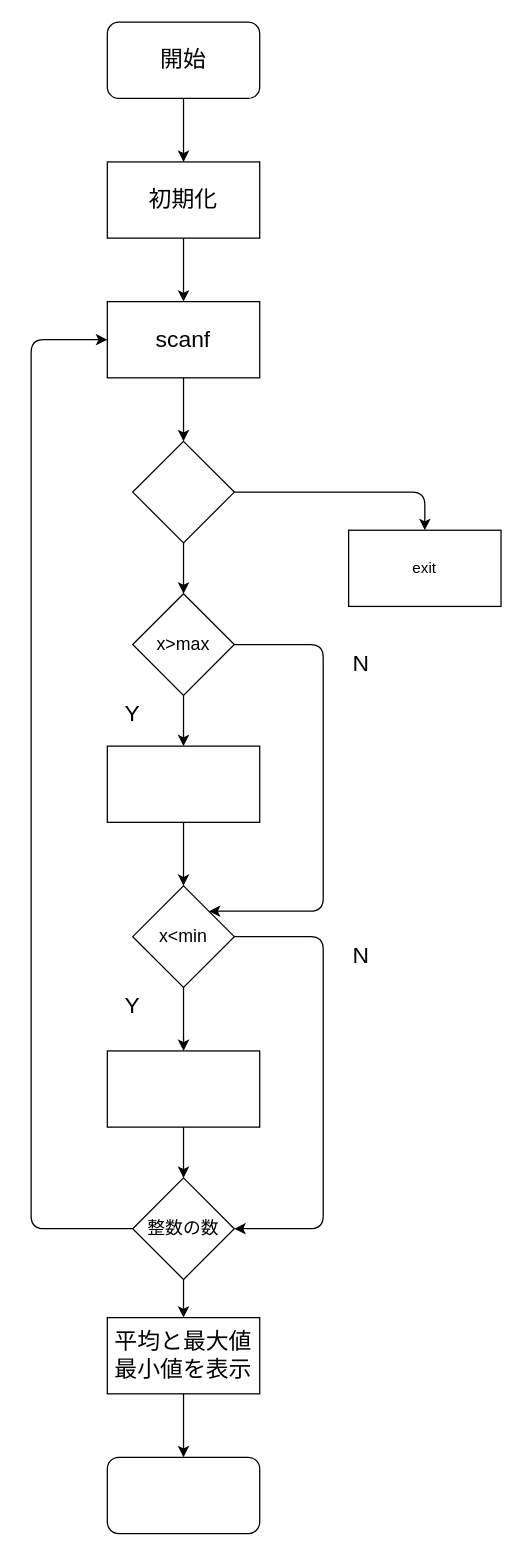
Image size: 523x1556. Some labels were removed from this diagram. The centre of each missing label's shape, as x and y in pixels:
"max=x" belongs at pixel 183 783.
"min=x" belongs at pixel 183 1088.
"x>=1000" belongs at pixel 182 491.
"終了" belongs at pixel 183 1495.
